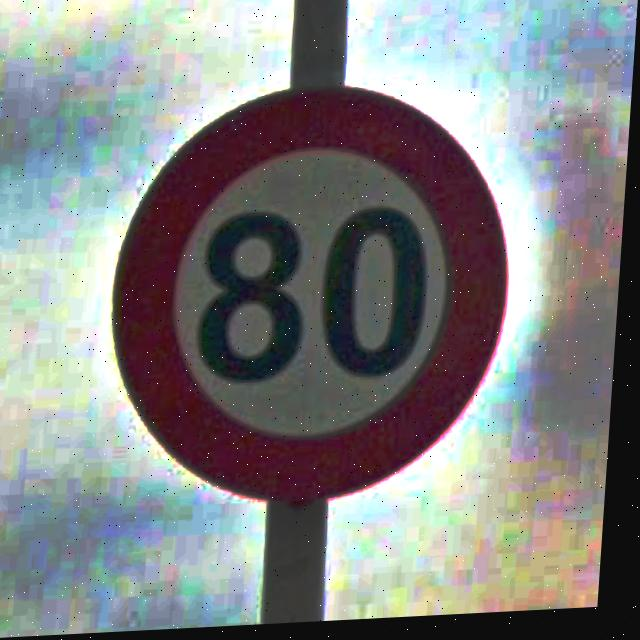max80: (104, 77, 525, 518)
